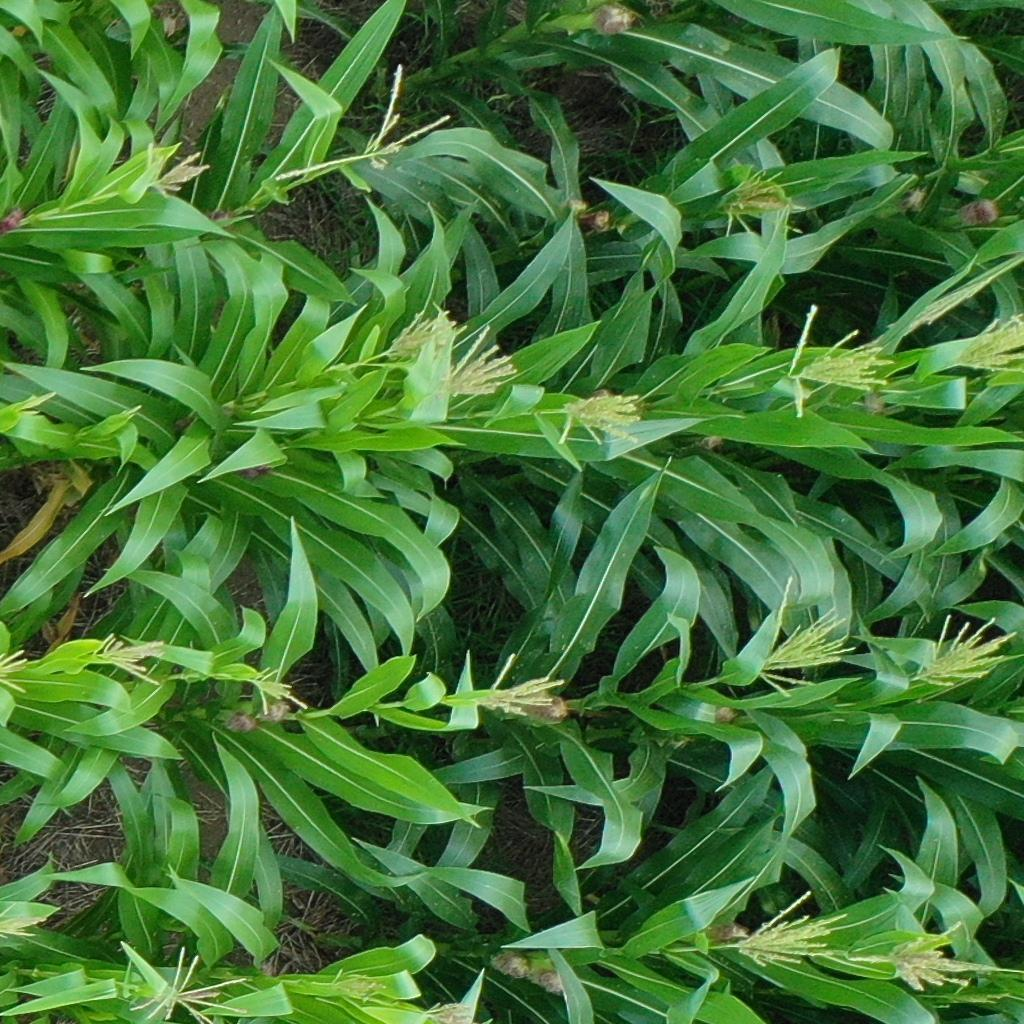Tassel: (750, 561, 856, 698), (117, 935, 266, 1024), (779, 300, 900, 399), (358, 54, 456, 166), (712, 161, 810, 271), (907, 602, 1023, 694), (732, 882, 846, 972), (887, 916, 1009, 992), (415, 321, 520, 402), (551, 381, 651, 451), (477, 652, 569, 720), (373, 305, 464, 365), (89, 623, 170, 690), (133, 138, 211, 202), (959, 315, 1024, 379), (251, 667, 315, 722), (325, 967, 392, 1006), (418, 995, 494, 1024), (1, 900, 48, 946), (1, 637, 32, 696)
